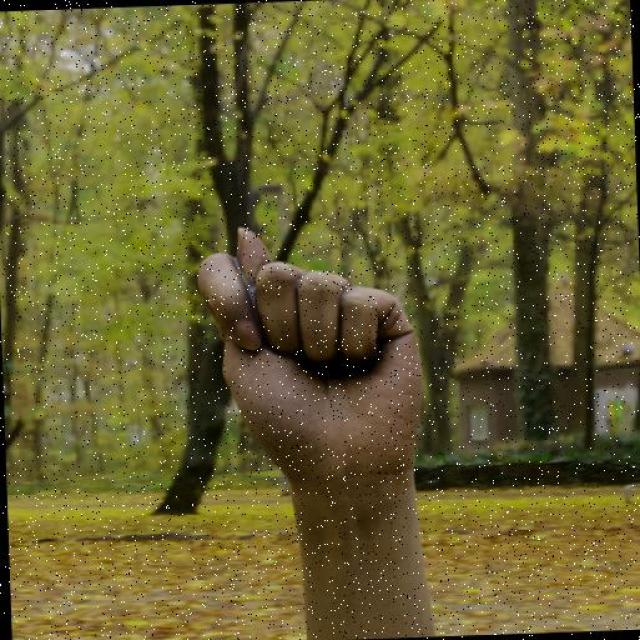T: (197, 222, 439, 523)
